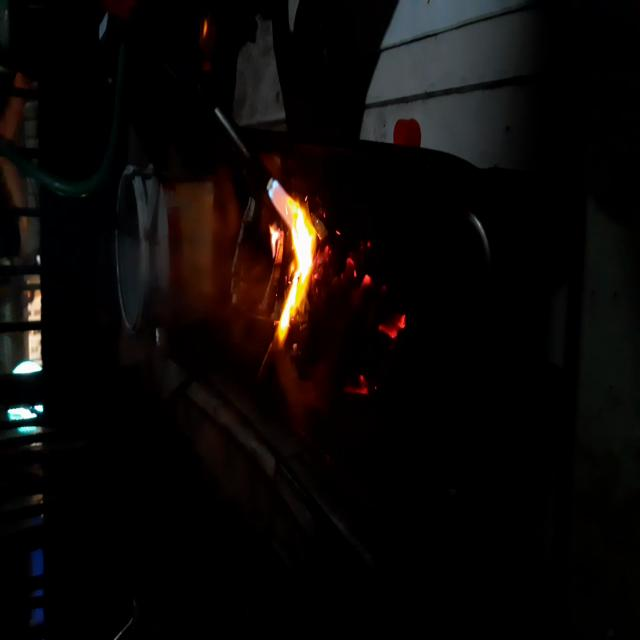Fire: (325, 221, 410, 372), (265, 160, 320, 360)
